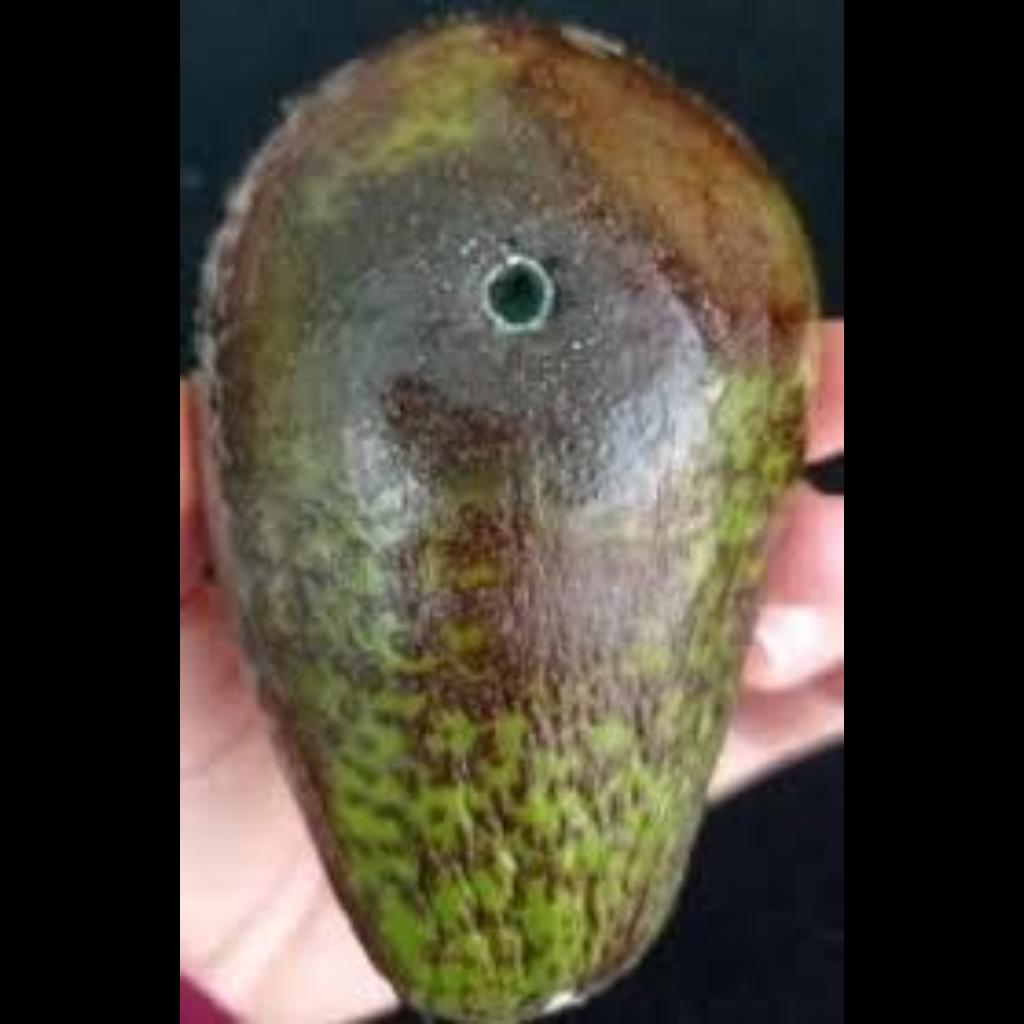antracnosis_fruto: (189, 43, 835, 857)
